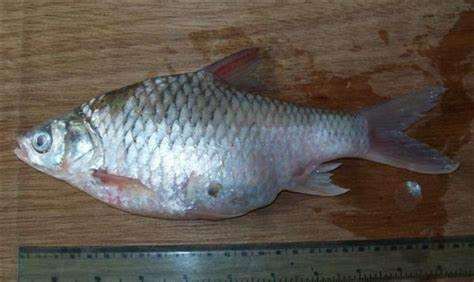Silver Barb: (14, 48, 458, 223)
